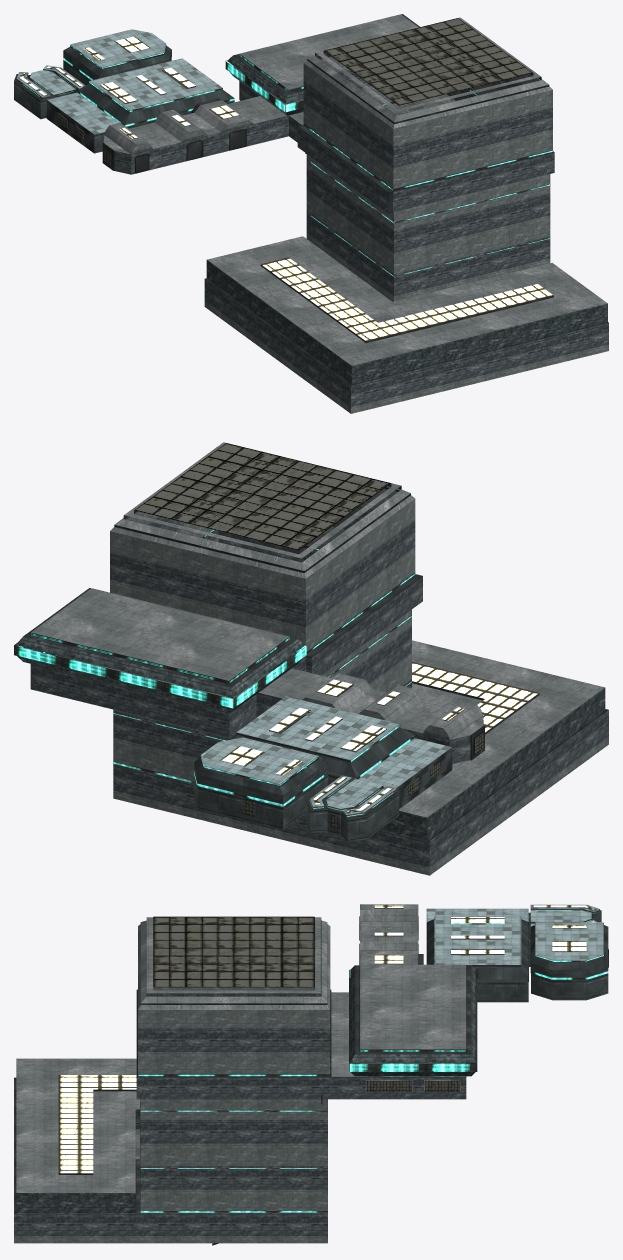
3 renders of one model, top to bottom at view 1: azimuth 30°, elevation 25°; view 2: azimuth 150°, elevation 25°; view 3: azimuth 270°, elevation 25°, orthographic. The views are drawn at different scales.
Visible parts, largest first — view 1: Cyberpunk_Apartment_Main_Walls, Cyberpunk_Apartment_Main_Ceiling, Cyberpunk_Apartment_Lights, Cyberpunk_Apartment_Windows, Cyberpunk_Apartment_Room_Ceiling, Cyberpunk_Apartment_Room_Walls, Cyberpunk_Apartment_Main_Trim, Cyberpunk_Apartment_Main_Floor; view 2: Cyberpunk_Apartment_Main_Walls, Cyberpunk_Apartment_Main_Ceiling, Cyberpunk_Apartment_Windows, Cyberpunk_Apartment_Lights, Cyberpunk_Apartment_Room_Walls, Cyberpunk_Apartment_Room_Ceiling, Cyberpunk_Apartment_Main_Trim, Cyberpunk_Apartment_Room_Floor, Cyberpunk_Apartment_Main_Floor; view 3: Cyberpunk_Apartment_Main_Walls, Cyberpunk_Apartment_Main_Ceiling, Cyberpunk_Apartment_Windows, Cyberpunk_Apartment_Lights, Cyberpunk_Apartment_Room_Ceiling, Cyberpunk_Apartment_Room_Walls, Cyberpunk_Apartment_Main_Trim, Cyberpunk_Apartment_Main_Floor, Cyberpunk_Apartment_Room_Floor.
Boxes of the visible parts, left/top/right/bottom form: Cyberpunk_Apartment_Main_Walls: left=114, top=55, right=608, bottom=413; Cyberpunk_Apartment_Main_Ceiling: left=103, top=14, right=607, bottom=365; Cyberpunk_Apartment_Lights: left=16, top=36, right=553, bottom=341; Cyberpunk_Apartment_Windows: left=33, top=18, right=532, bottom=165; Cyberpunk_Apartment_Room_Ceiling: left=16, top=29, right=222, bottom=134; Cyberpunk_Apartment_Room_Walls: left=14, top=41, right=234, bottom=153; Cyberpunk_Apartment_Main_Trim: left=14, top=14, right=608, bottom=385; Cyberpunk_Apartment_Main_Floor: left=269, top=92, right=464, bottom=276; Cyberpunk_Apartment_Main_Walls: left=16, top=490, right=608, bottom=875; Cyberpunk_Apartment_Main_Ceiling: left=31, top=442, right=604, bottom=817; Cyberpunk_Apartment_Windows: left=34, top=443, right=483, bottom=827; Cyberpunk_Apartment_Lights: left=14, top=529, right=538, bottom=816; Cyberpunk_Apartment_Room_Walls: left=194, top=712, right=452, bottom=842; Cyberpunk_Apartment_Room_Ceiling: left=201, top=696, right=451, bottom=814; Cyberpunk_Apartment_Main_Trim: left=14, top=483, right=608, bottom=840; Cyberpunk_Apartment_Room_Floor: left=209, top=729, right=434, bottom=815; Cyberpunk_Apartment_Main_Floor: left=57, top=659, right=324, bottom=783; Cyberpunk_Apartment_Main_Walls: left=14, top=965, right=475, bottom=1243; Cyberpunk_Apartment_Main_Ceiling: left=16, top=904, right=466, bottom=1192; Cyberpunk_Apartment_Windows: left=153, top=916, right=459, bottom=1091; Cyberpunk_Apartment_Lights: left=58, top=905, right=608, bottom=1212; Cyberpunk_Apartment_Room_Ceiling: left=426, top=904, right=603, bottom=964; Cyberpunk_Apartment_Room_Walls: left=426, top=907, right=608, bottom=1002; Cyberpunk_Apartment_Main_Trim: left=14, top=910, right=608, bottom=1245; Cyberpunk_Apartment_Main_Floor: left=135, top=963, right=465, bottom=1212; Cyberpunk_Apartment_Room_Floor: left=451, top=938, right=606, bottom=981.
Bounding box in the file's own units: 8.24 × 5.56 × 11.66.
10 materials, 10 textured.
